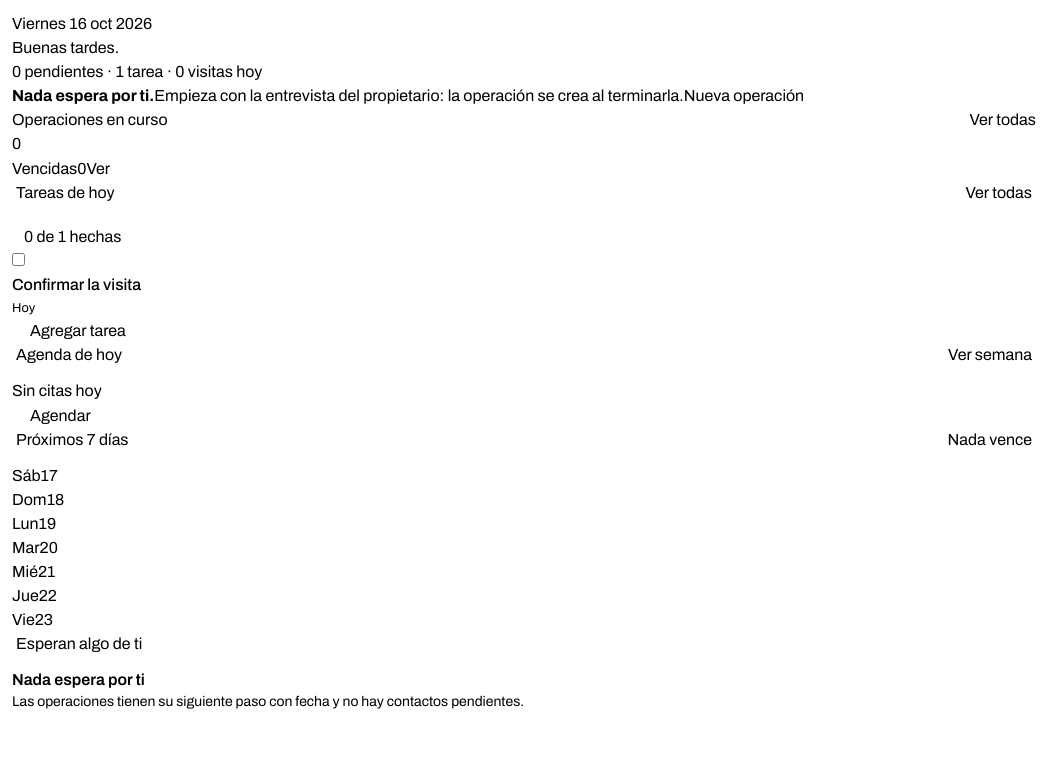
Test: a task is marked done from Hoy and the change is saved
This screenshot has width=1048, height=780.
What coordinates should you click on to do the following:
click the checkbox named "Marcar como hecha: Confirmar la visita"
I would click on:
 (18, 260)
Its box is [12,253,25,266].
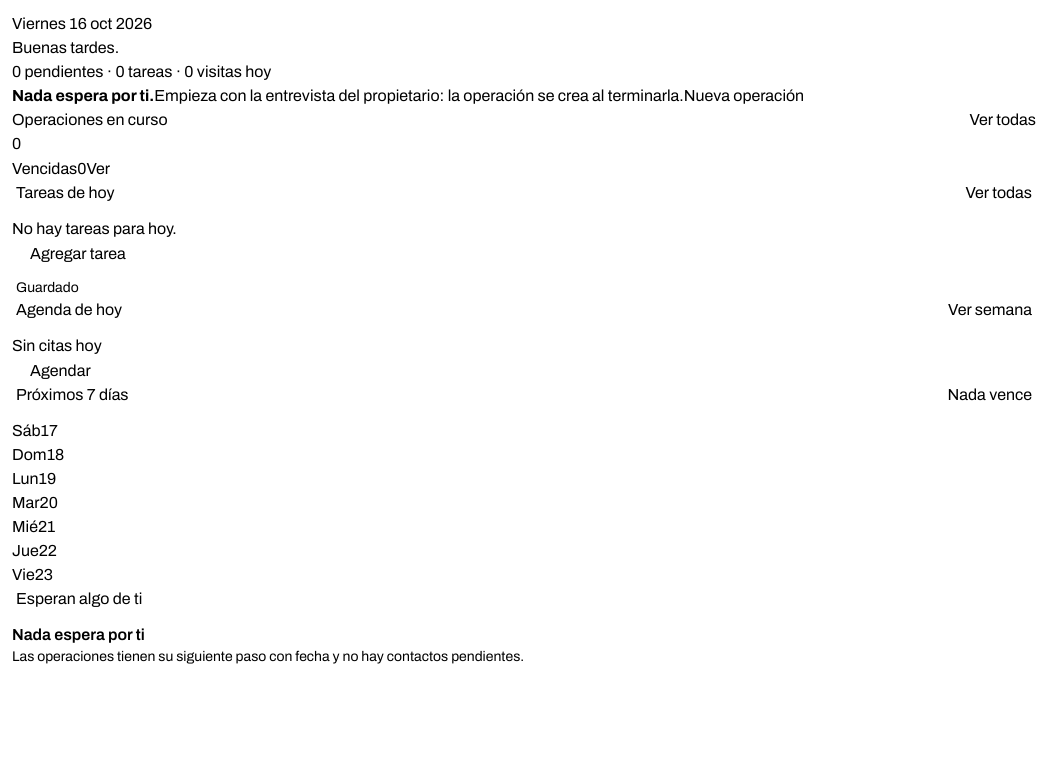
Check: the text "Guardado" is shown, box [16,280,79,295]
